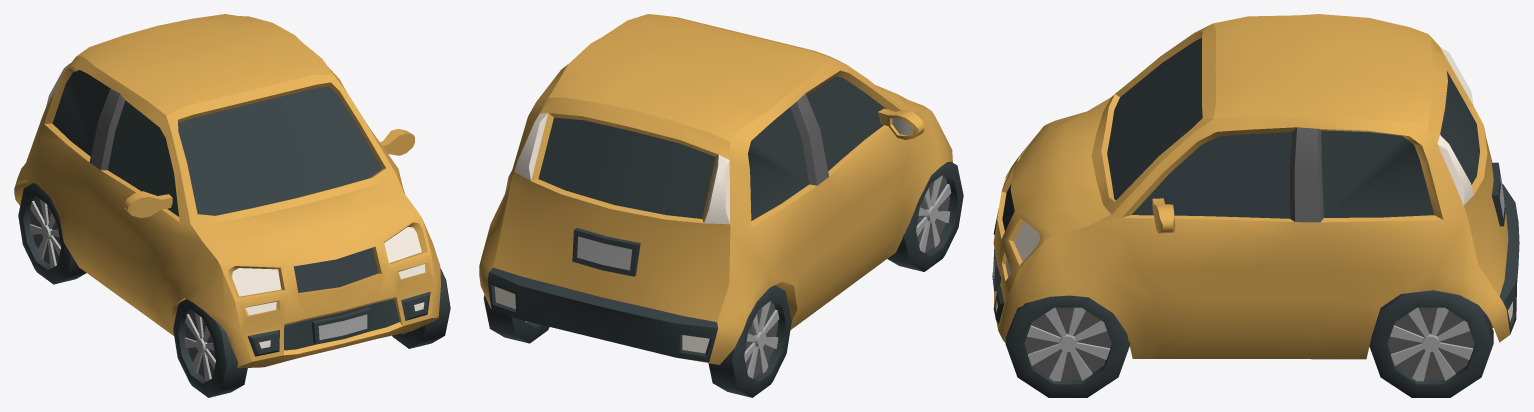
The model's file is Car_02.fbx.
3 renders of one model, left to right at view 1: azimuth 30°, elevation 25°; view 2: azimuth 150°, elevation 25°; view 3: azimuth 270°, elevation 25°, orthographic. The views are drawn at different scales.
Parts seen in each view (by area): view 1: Car_02, Car_02_Front_Right, Car_02_Back_Right, Car_02_Front_Left; view 2: Car_02, Car_02_Back_Right, Car_02_Front_Right, Car_02_Back_Left; view 3: Car_02, Car_02_Back_Left, Car_02_Front_Left.
Part boxes in pixels (x1,y1,x2,y2): Car_02: [14, 14, 440, 368]; Car_02_Front_Right: [173, 299, 247, 397]; Car_02_Back_Right: [18, 183, 86, 284]; Car_02_Front_Left: [392, 268, 450, 348]; Car_02: [479, 14, 952, 364]; Car_02_Back_Right: [708, 285, 791, 397]; Car_02_Front_Right: [887, 161, 963, 271]; Car_02_Back_Left: [483, 295, 549, 343]; Car_02: [992, 14, 1519, 359]; Car_02_Back_Left: [1369, 290, 1493, 397]; Car_02_Front_Left: [1005, 295, 1130, 397].
Size of the model in its own units: 0.178 by 0.138 by 0.2414.
